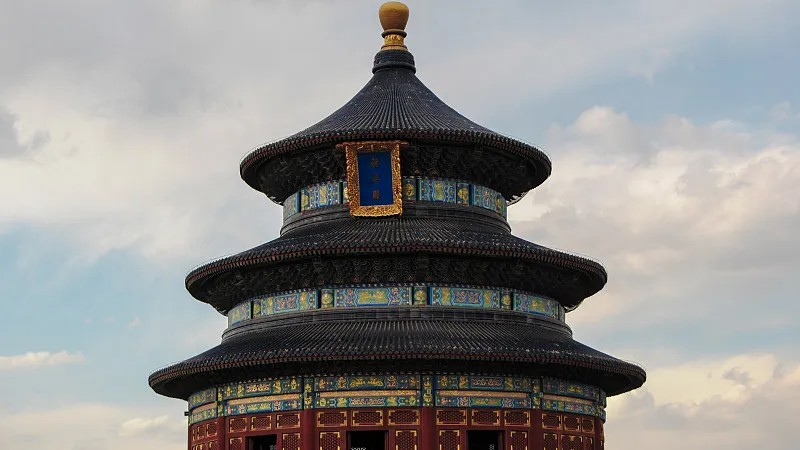Heaven: (148, 1, 647, 450)
